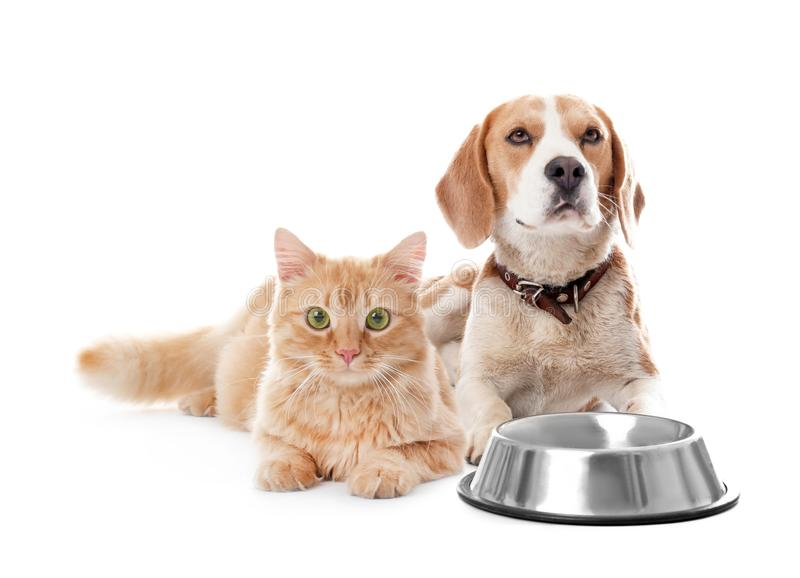cat: (264, 221, 430, 390)
dog: (438, 93, 653, 269)
